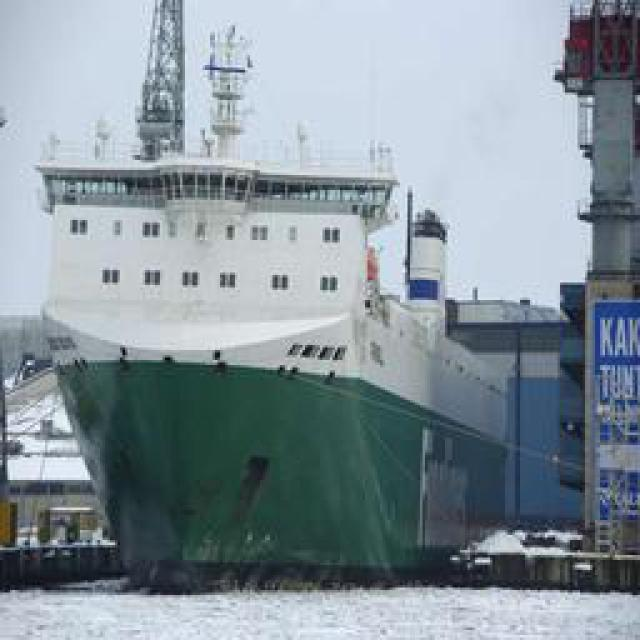Ship: (36, 161, 606, 584)
